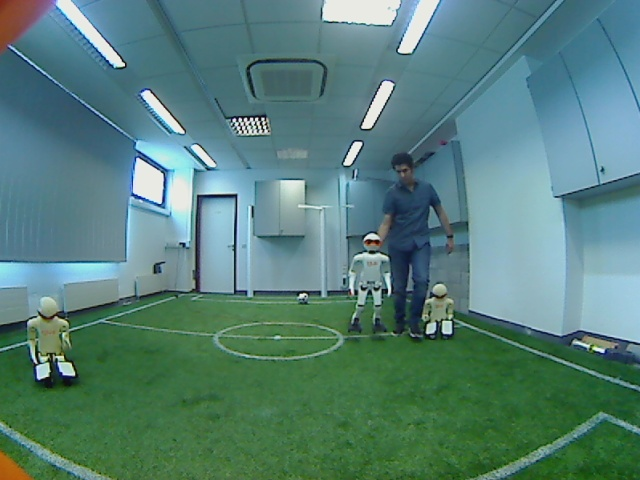ball: (293, 289, 315, 309)
robot: (19, 291, 88, 387), (346, 232, 395, 337), (418, 281, 461, 342)
